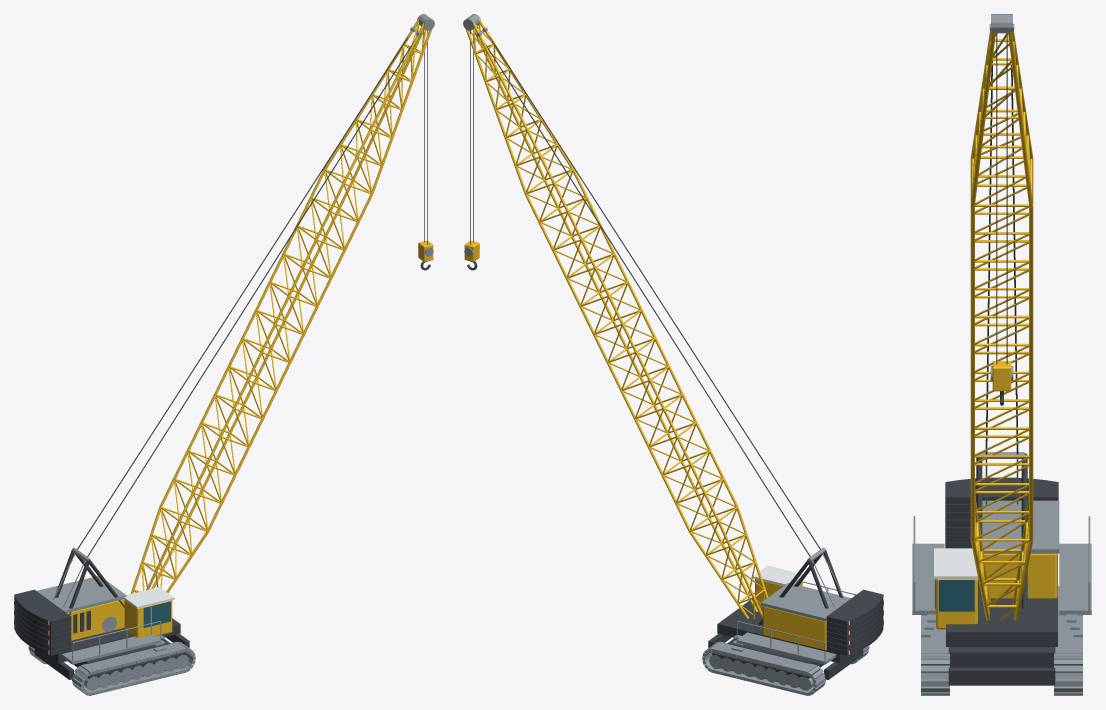
The model's file is liebherr-lr1100.glb.
3 views of the same model, side by side, from view 1: azimuth 30°, elevation 25°; view 2: azimuth 150°, elevation 25°; view 3: azimuth 270°, elevation 25° (orthographic). The views are drawn at different scales.
Parts seen in each view (by area): view 1: BOOM_PIVOT_yellow_batch, SLEW_dark_batch, SLEW_metal_batch, ROOT_metal_batch, SLEW_yellow_batch, ROOT_dark_batch, BOOM_PENDANT_RIGHT_dark_batch, BOOM_PENDANT_LEFT_dark_batch, SLEW_white_batch; view 2: BOOM_PIVOT_yellow_batch, SLEW_dark_batch, SLEW_metal_batch, ROOT_metal_batch, SLEW_yellow_batch, ROOT_dark_batch, BOOM_PENDANT_LEFT_dark_batch, BOOM_PENDANT_RIGHT_dark_batch; view 3: BOOM_PIVOT_yellow_batch, SLEW_metal_batch, SLEW_dark_batch, ROOT_dark_batch, ROOT_metal_batch, SLEW_yellow_batch, SLEW_white_batch, HOIST_ROPES_dark_batch, SLEW_glass_batch, BOOM_PENDANT_LEFT_dark_batch, BOOM_PENDANT_RIGHT_dark_batch, HOOK_yellow_batch (+1 smaller).
Boxes of the visible parts, bbox=[...] form: BOOM_PIVOT_yellow_batch: bbox=[130, 18, 431, 593]; SLEW_dark_batch: bbox=[14, 550, 180, 663]; SLEW_metal_batch: bbox=[14, 547, 166, 664]; ROOT_metal_batch: bbox=[28, 641, 195, 695]; SLEW_yellow_batch: bbox=[67, 599, 172, 640]; ROOT_dark_batch: bbox=[34, 634, 189, 687]; BOOM_PENDANT_RIGHT_dark_batch: bbox=[77, 36, 408, 549]; BOOM_PENDANT_LEFT_dark_batch: bbox=[87, 43, 412, 556]; SLEW_white_batch: bbox=[14, 587, 174, 654]; BOOM_PIVOT_yellow_batch: bbox=[466, 18, 768, 619]; SLEW_dark_batch: bbox=[717, 550, 883, 663]; SLEW_metal_batch: bbox=[731, 547, 883, 664]; ROOT_metal_batch: bbox=[702, 641, 869, 695]; SLEW_yellow_batch: bbox=[755, 579, 826, 649]; ROOT_dark_batch: bbox=[708, 634, 863, 687]; BOOM_PENDANT_LEFT_dark_batch: bbox=[489, 36, 820, 549]; BOOM_PENDANT_RIGHT_dark_batch: bbox=[485, 43, 810, 556]; BOOM_PIVOT_yellow_batch: bbox=[970, 30, 1033, 620]; SLEW_metal_batch: bbox=[912, 452, 1091, 637]; SLEW_dark_batch: bbox=[945, 453, 1058, 646]; ROOT_dark_batch: bbox=[948, 647, 1055, 685]; ROOT_metal_batch: bbox=[921, 586, 1082, 695]; SLEW_yellow_batch: bbox=[936, 553, 1057, 629]; SLEW_white_batch: bbox=[934, 548, 977, 579]; HOIST_ROPES_dark_batch: bbox=[996, 33, 1007, 364]; SLEW_glass_batch: bbox=[935, 579, 974, 611]; BOOM_PENDANT_LEFT_dark_batch: bbox=[985, 61, 992, 454]; BOOM_PENDANT_RIGHT_dark_batch: bbox=[1011, 65, 1018, 454]; HOOK_yellow_batch: bbox=[992, 361, 1011, 391].
Bounding box in the file's own units: 22.2 × 29.96 × 5.53.
